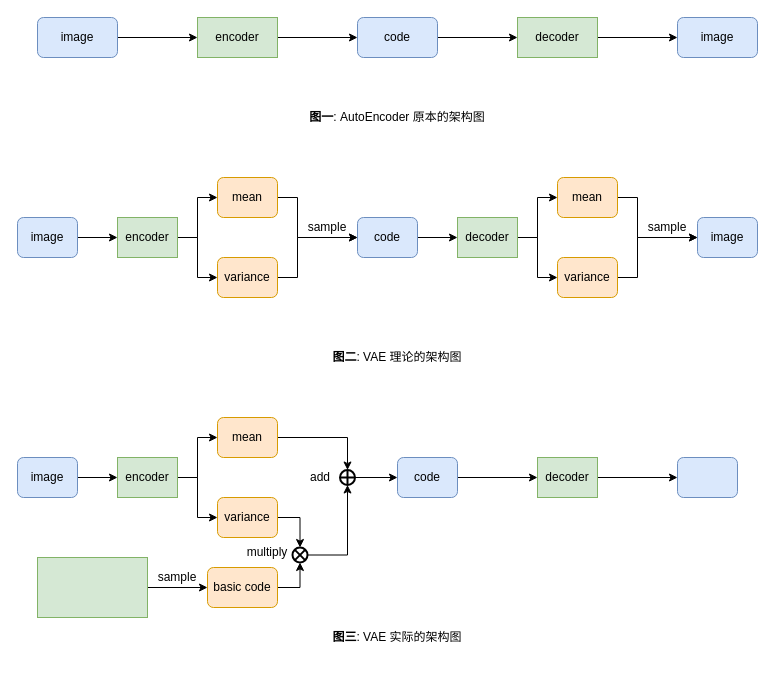
Image size: 775x675. Some labels were removed from this diagram. The box of each missing label's shape, as (x1, y1, x2, y2) in pixels:
image (mean): (676, 456, 738, 498)
standard normal distribution: (36, 556, 148, 618)
